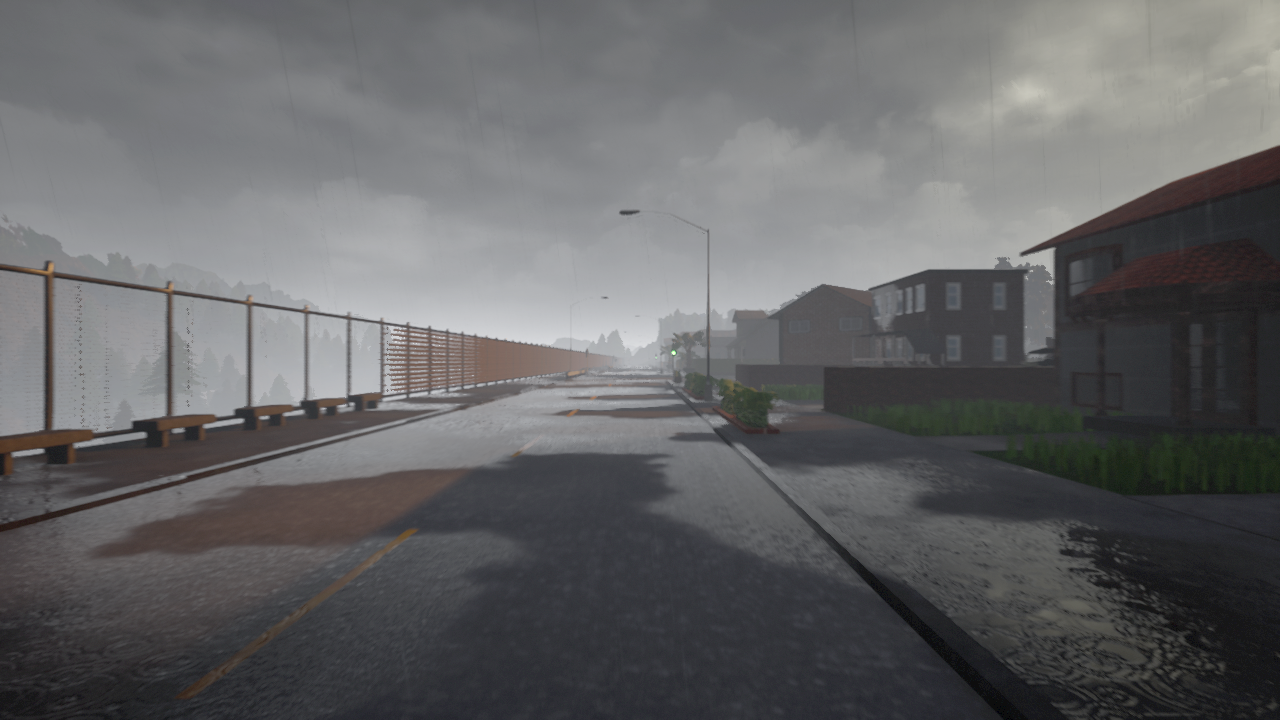green: (670, 343, 676, 356)
